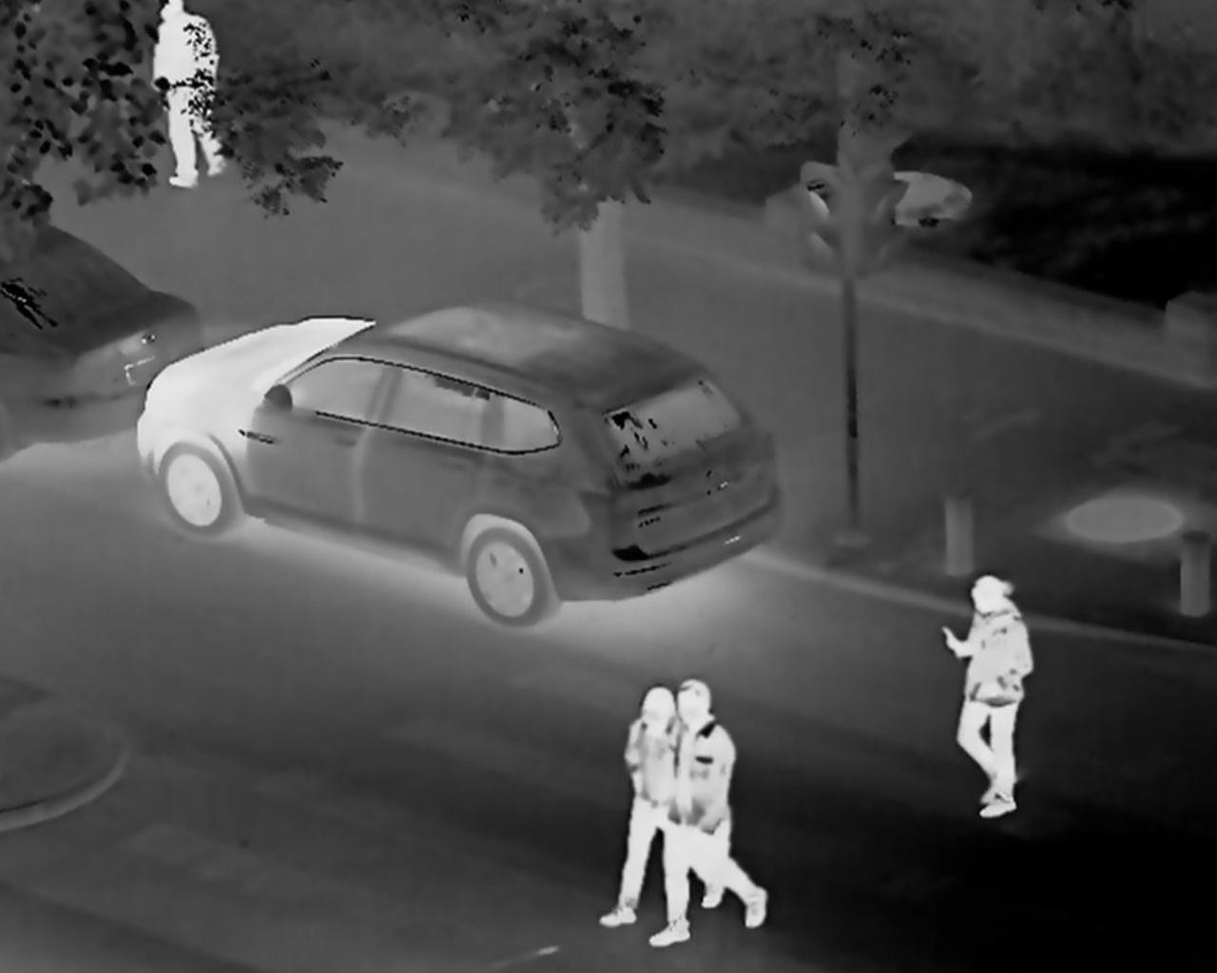person: (667, 690, 778, 953), (956, 563, 1042, 825), (616, 665, 665, 922), (159, 10, 230, 181)
